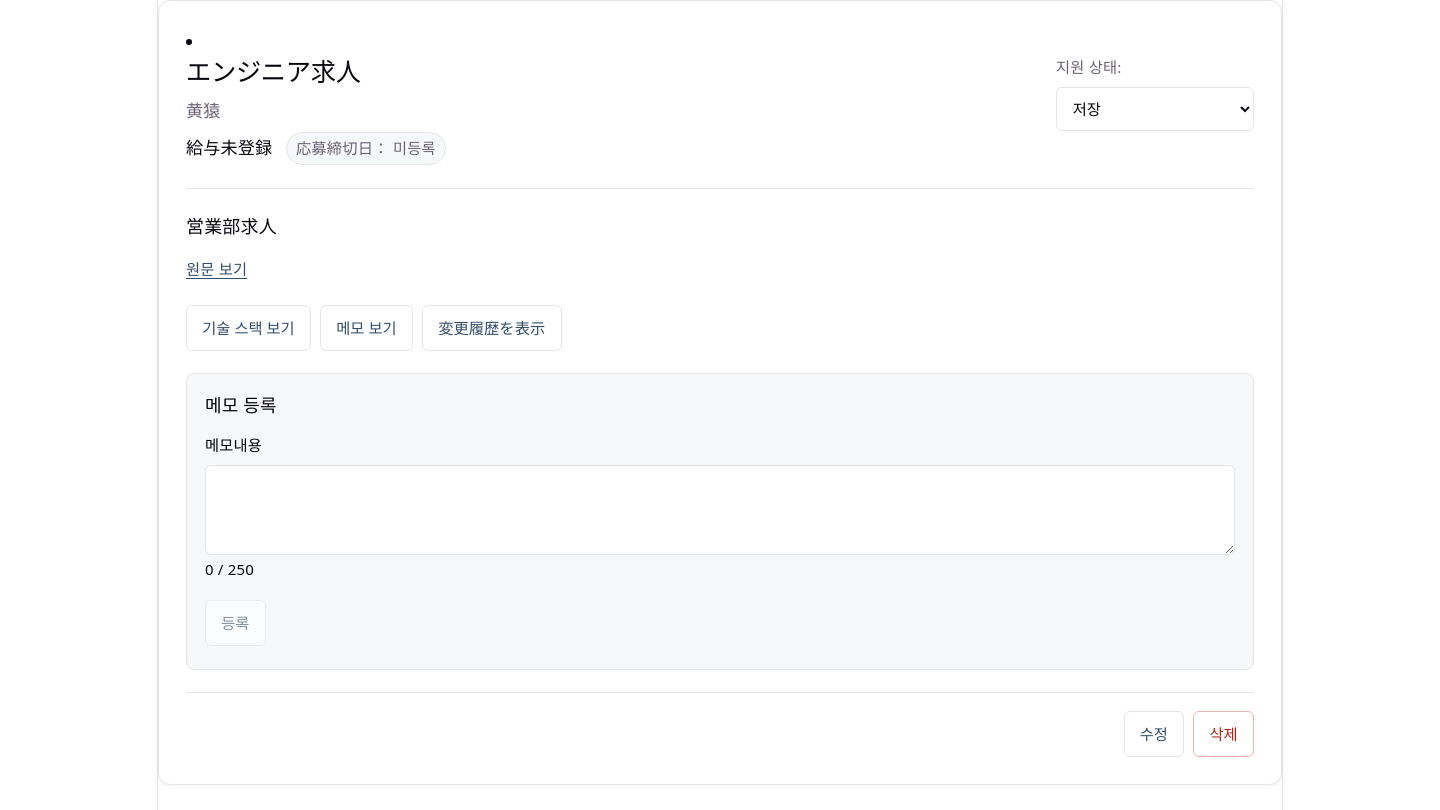
Test: skills › 존재하지 않는 공고의 경우 기술 스택 보기를 누르면 오류 메시지 표시한다
The image size is (1440, 810).
What coordinates should you click on to do the following:
click the button "기술 스택 보기"
I would click on:
 (248, 328)
Its box is [186,305,311,351].
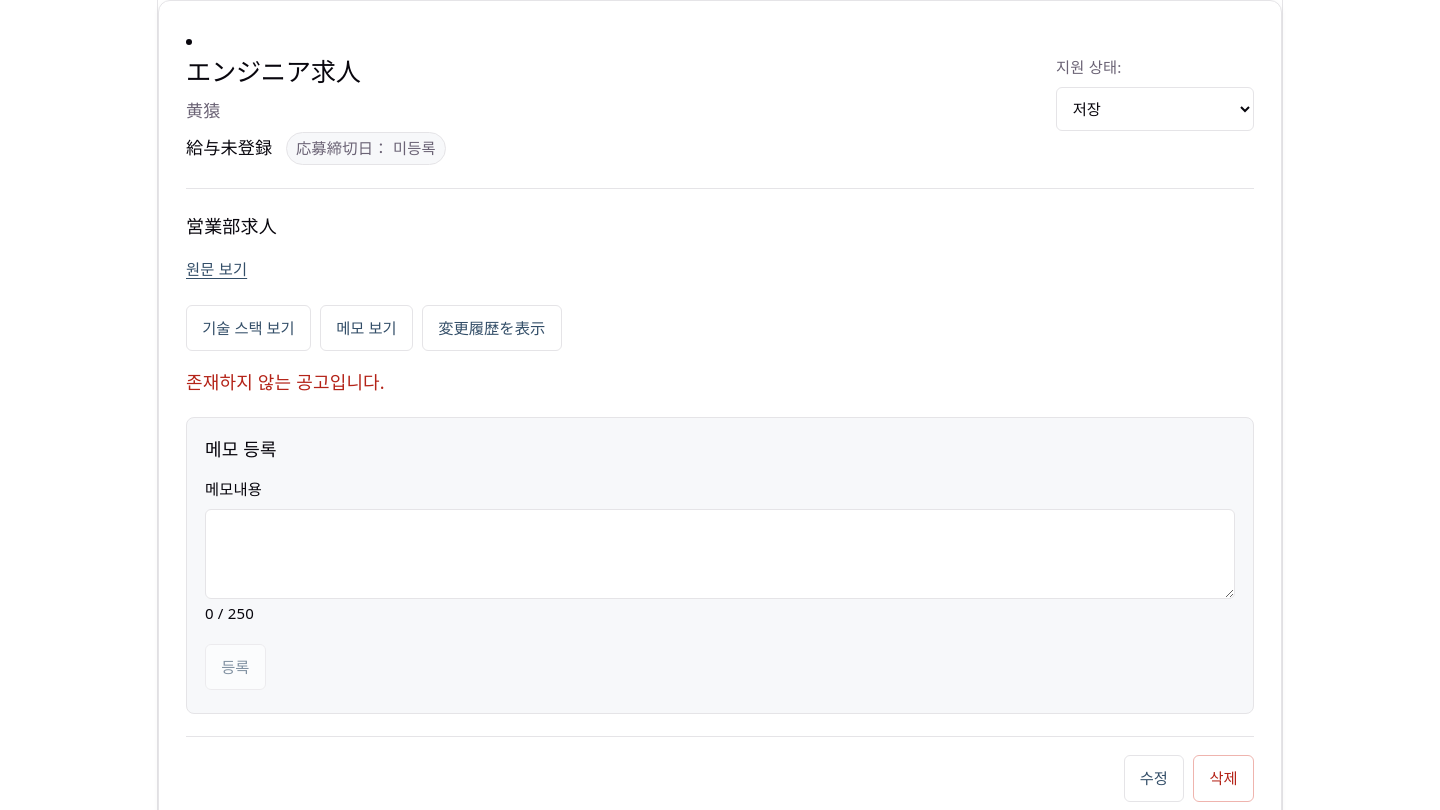
Expected: the text "존재하지 않는 공고입니다." is shown, [186,370,385,394]
